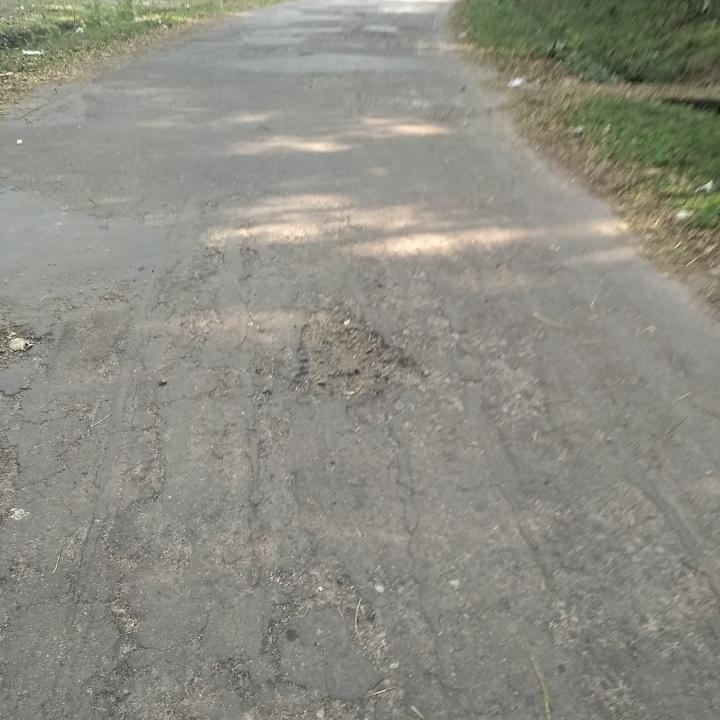pothole: (285, 294, 432, 409), (0, 318, 58, 367)
